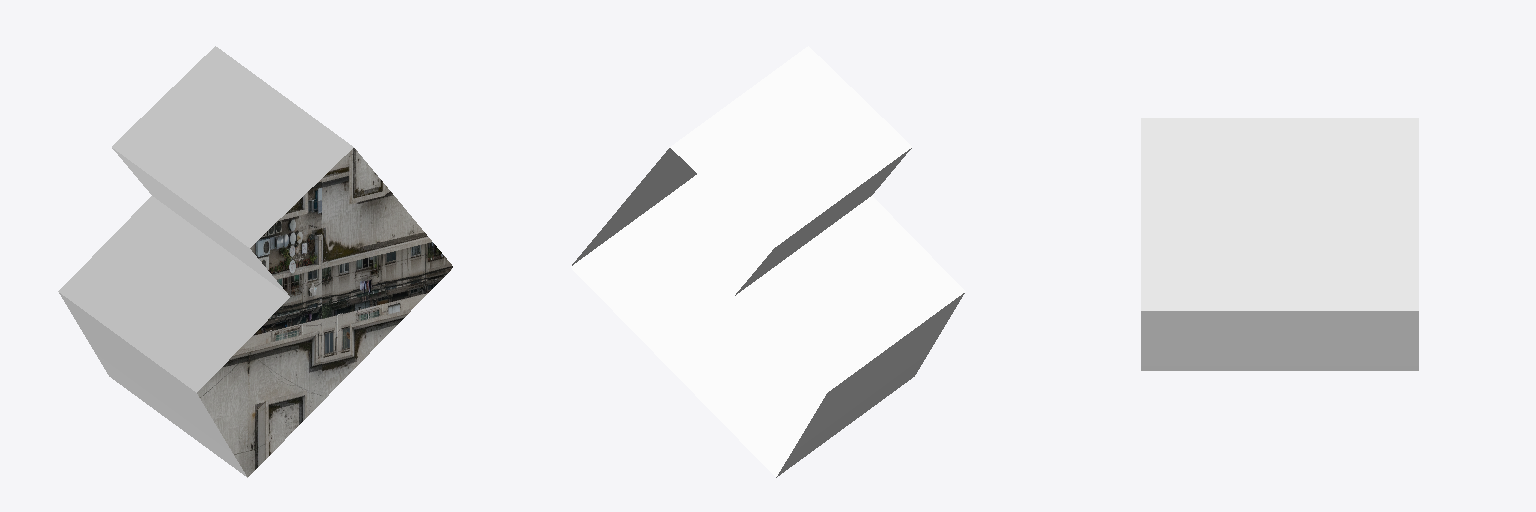
The picture shows the model from 3 angles: view 1: azimuth 30°, elevation 25°; view 2: azimuth 150°, elevation 25°; view 3: azimuth 270°, elevation 25°; orthographic projection.
Visible parts, largest first — view 1: Building; view 2: Building; view 3: Building.
Part boxes in pixels (bbox=[...]): Building: bbox=[58, 46, 452, 477]; Building: bbox=[571, 46, 965, 477]; Building: bbox=[1141, 118, 1418, 370].
Size of the model in its own units: 25.7 by 29.14 by 24.
2 materials, 1 textured.